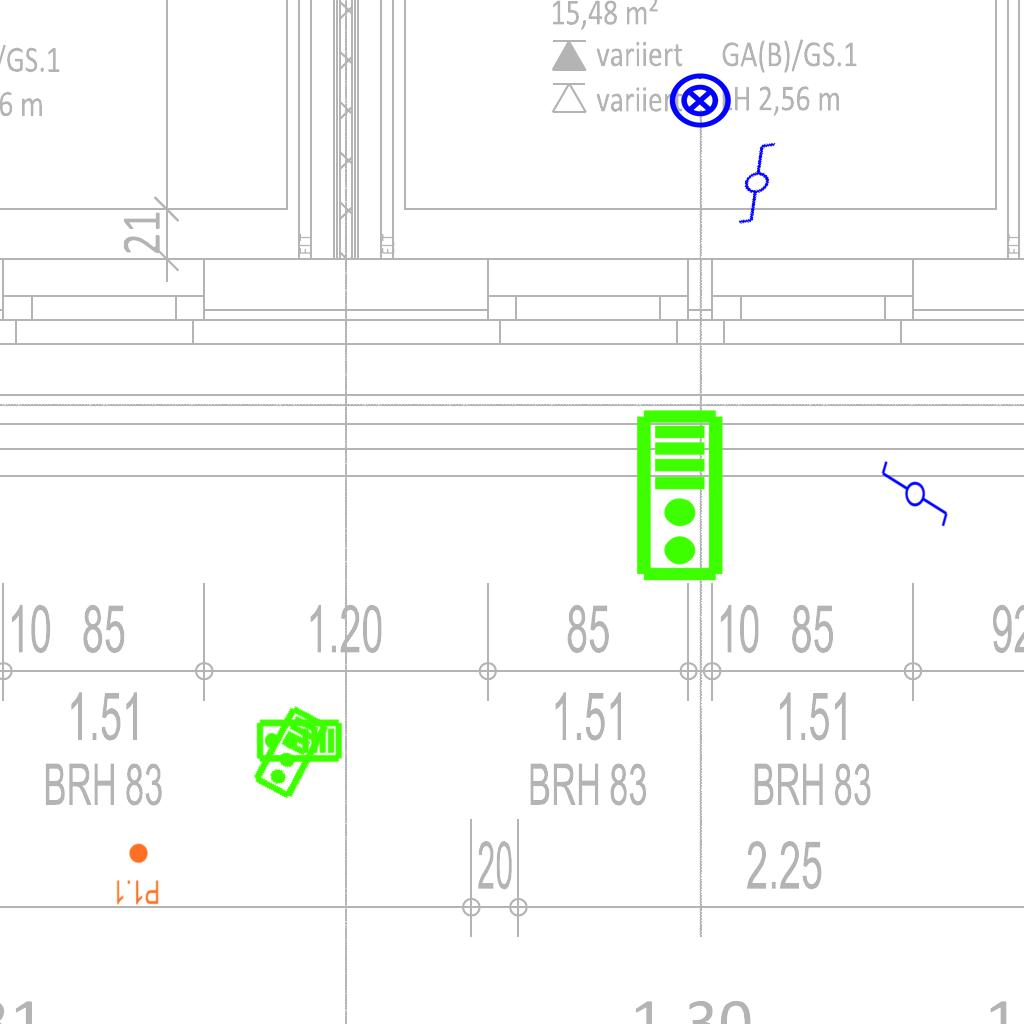Downlight_LED_Einbauleuchten_Flur: (114, 842, 160, 906)
Gegensprechanlage_mit_Video: (634, 408, 729, 584), (250, 703, 333, 803), (255, 718, 343, 765)
Taster_beleuchtet: (667, 68, 733, 134)
Wechselschalter: (710, 133, 812, 231), (878, 459, 950, 537)
